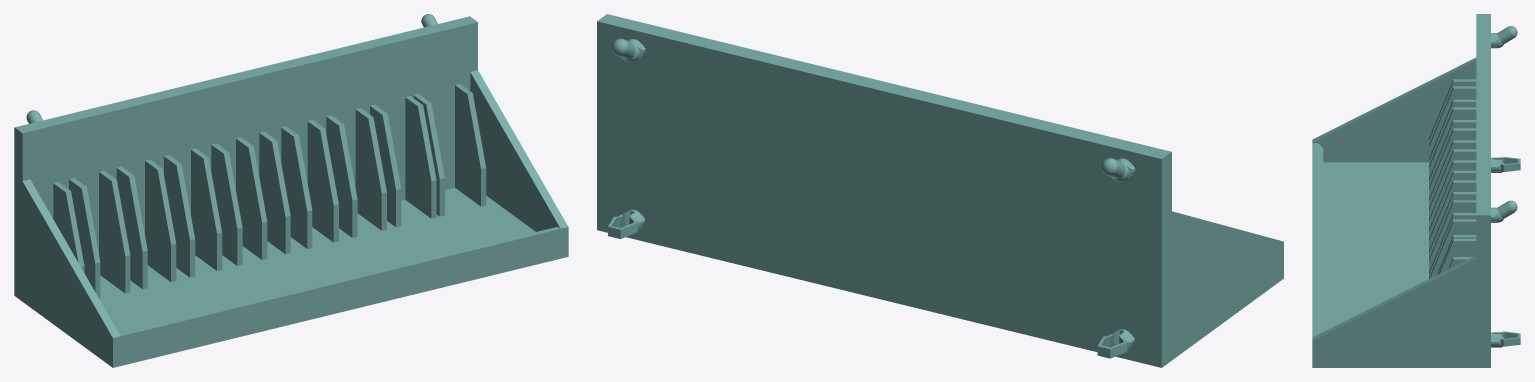
Rendered from installed.glb.
The picture shows the model from 3 angles, left to right: view 1: azimuth 30°, elevation 25°; view 2: azimuth 150°, elevation 25°; view 3: azimuth 270°, elevation 25°; orthographic projection. The views are drawn at different scales.
Parts seen in each view (by area): view 1: holder; view 2: holder; view 3: holder.
Part boxes in pixels (<box>): holder: <box>14,14,568,367</box>; holder: <box>597,14,1283,367</box>; holder: <box>1312,14,1520,367</box>.
Bounding box in the file's own units: 0.1758 × 0.0624 × 0.0768.
